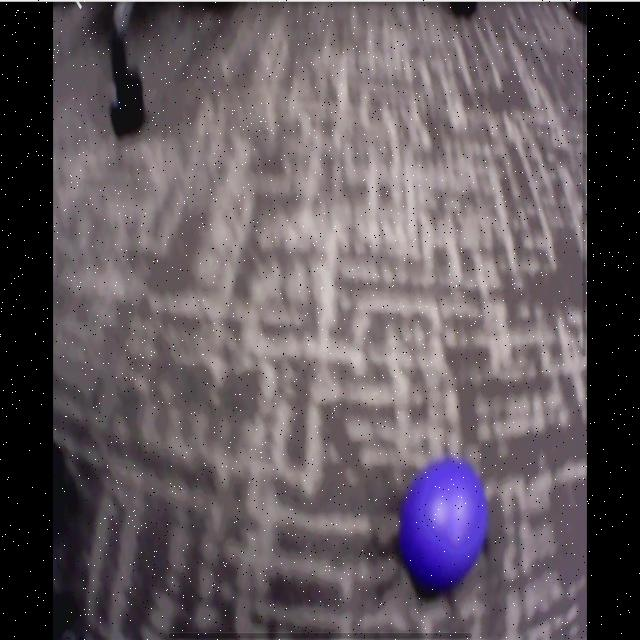ball: (402, 458, 486, 587)
